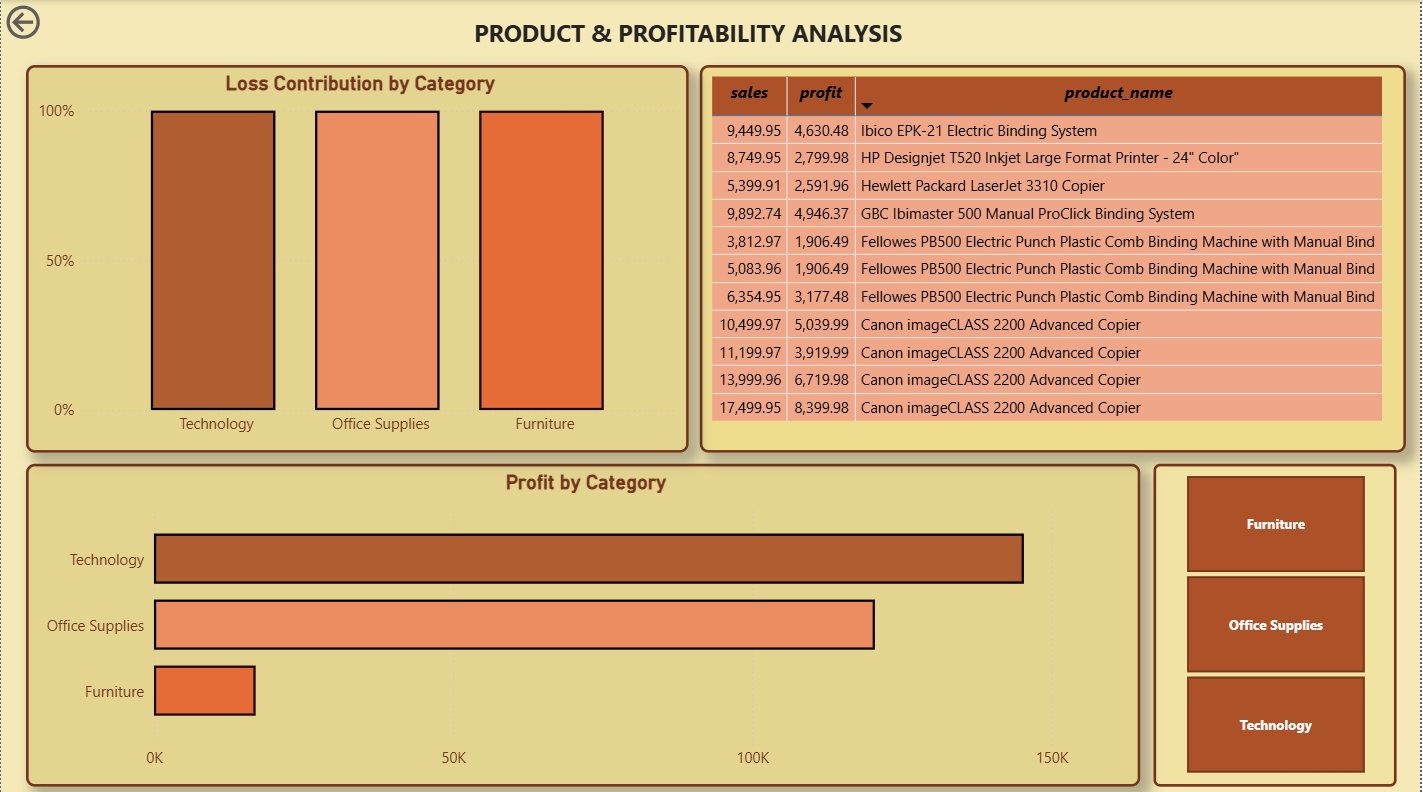

What the dashboard file says about the page in this screenshot:
{"tool":"powerbi","page":{"name":"Page 2","canvas":[1280,720],"ordinal":1},"visuals":[{"type":"textbox","box":[415.8,9.8,407.2,63.6],"z":0},{"type":"barChart","title":"Profit by Category","fields":{"Category":["retail_analysis orders.category"],"Y":["Sum(retail_analysis orders.profit)"]},"box":[22,418.2,1005.2,291],"z":1000},{"type":"tableEx","fields":{"Values":["retail_analysis orders.sales","retail_analysis orders.profit","retail_analysis orders.product_name"]},"box":[629.8,58.7,637.1,349.7],"z":2000},{"type":"hundredPercentStackedColumnChart","title":"Loss Contribution by Category","fields":{"Category":["retail_analysis orders.category"],"Y":["Avg(retail_analysis orders.profit)"]},"box":[22,58.7,598,349.7],"z":3000},{"type":"slicer","fields":{"Values":["retail_analysis orders.category"]},"box":[1039.4,418.2,218.9,291],"z":3001},{"type":"actionButton","box":[0,0,100,40],"z":3002}]}

Visuals, with their boxes in screenshot pixels (x1, y1, x2, y2), scaled from the page's 1280x720 canvas onto the 1423x792 screenshot:
textbox: <region>462, 11, 915, 81</region>
"Profit by Category" barChart: <region>24, 460, 1142, 780</region>
tableEx - retail_analysis orders.sales x retail_analysis orders.profit: <region>700, 65, 1408, 449</region>
"Loss Contribution by Category" hundredPercentStackedColumnChart: <region>24, 65, 689, 449</region>
slicer - retail_analysis orders.category: <region>1156, 460, 1399, 780</region>
actionButton: <region>0, 0, 111, 44</region>
